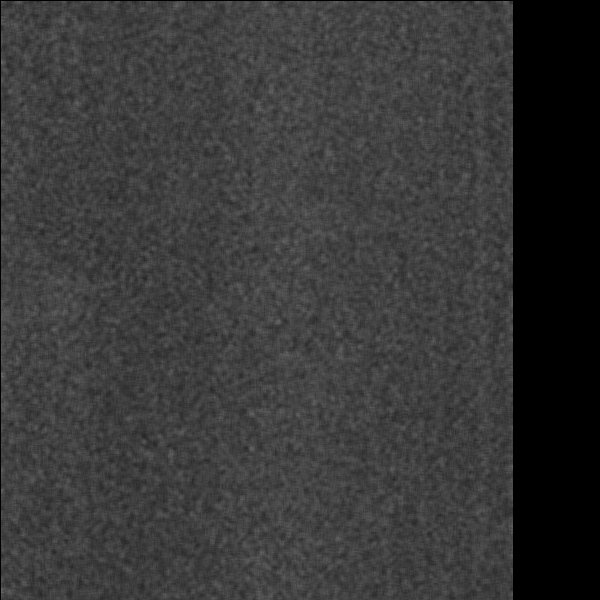spark: (81, 119, 135, 171), (311, 254, 353, 289), (336, 13, 355, 47), (178, 8, 199, 38), (336, 218, 355, 246)
